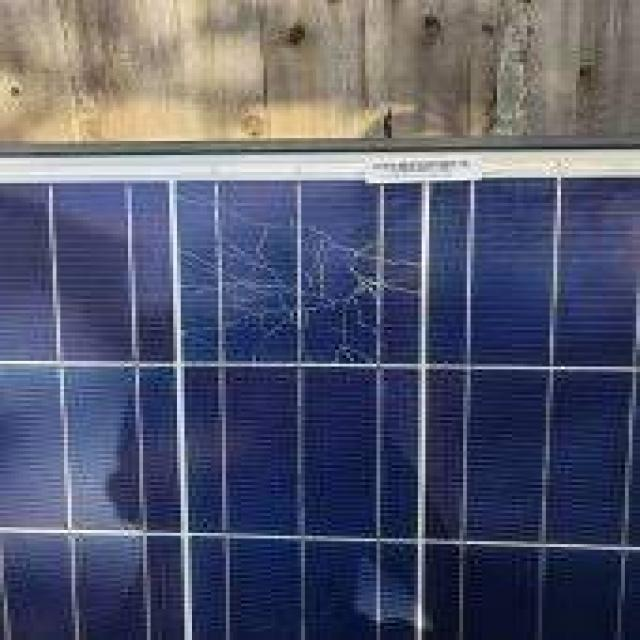faulty: (22, 132, 640, 640)
